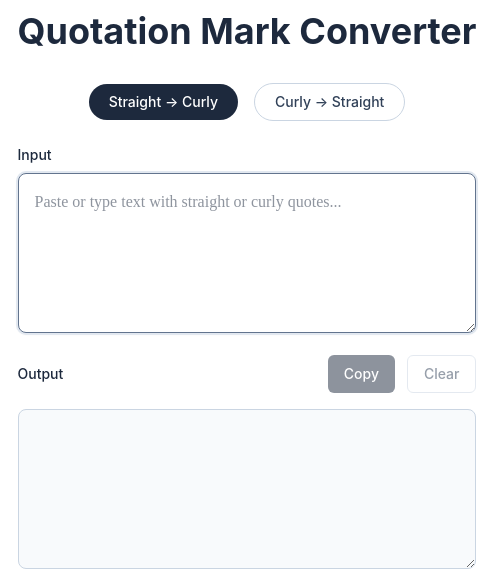
Test case: App component › toggles direction to convert curly quotes to straight quotes
The image size is (495, 586).
Click the button "Curly → Straight".
click(330, 102)  # box [254,83,405,121]
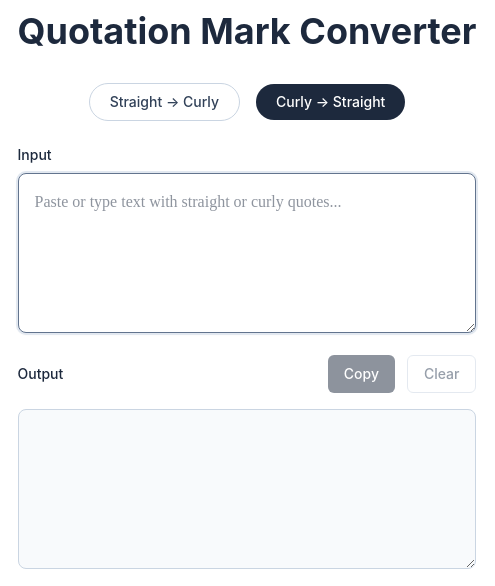
Type "“A tiger can’t change its stripes.”" into the text box labelled "Input".
click(247, 253); type("“A tiger can’t change its stripes.”")  # box [18,173,476,333]
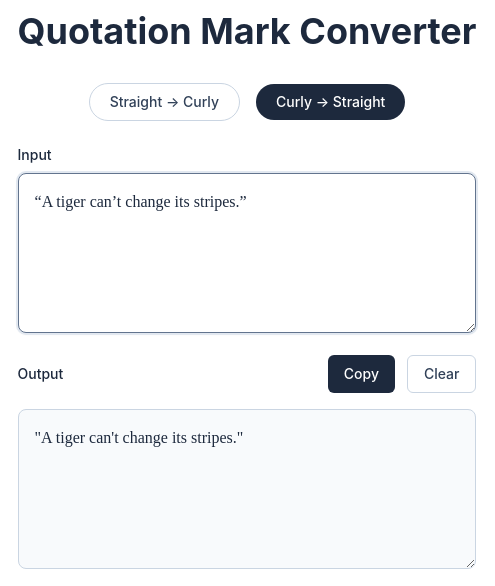
Now the text box labelled "Output" holds "\"A tiger can't change its stripes.\"", box [18,409,476,569]
